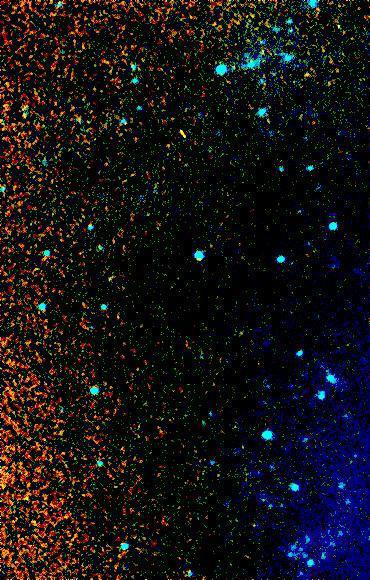star: (288, 55, 318, 85)
